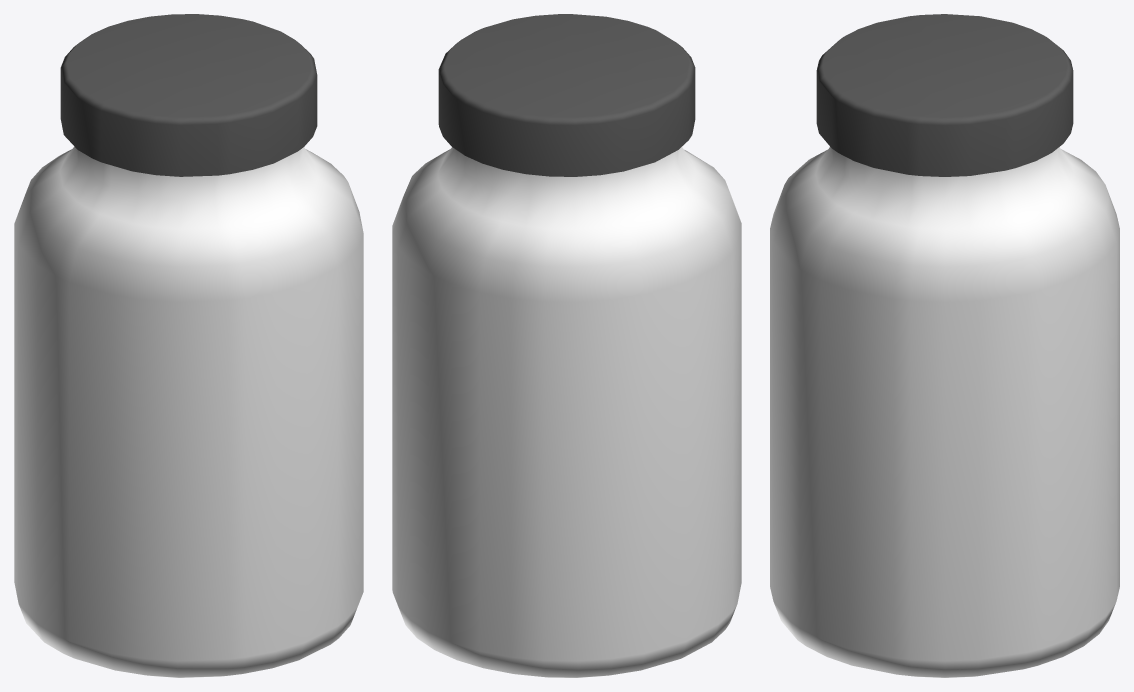
The model's file is Glass Container.fbx.
3 renders of one model, left to right at view 1: azimuth 30°, elevation 25°; view 2: azimuth 150°, elevation 25°; view 3: azimuth 270°, elevation 25°, orthographic.
Visible parts, largest first — view 1: Glass_Container; view 2: Glass_Container; view 3: Glass_Container.
Boxes of the visible parts, <box> form: Glass_Container: <box>14,14,363,677</box>; Glass_Container: <box>392,14,741,677</box>; Glass_Container: <box>770,14,1119,677</box>.
Bounding box in the file's own units: 10.17 × 17.74 × 10.17.
1 material, 1 textured.
